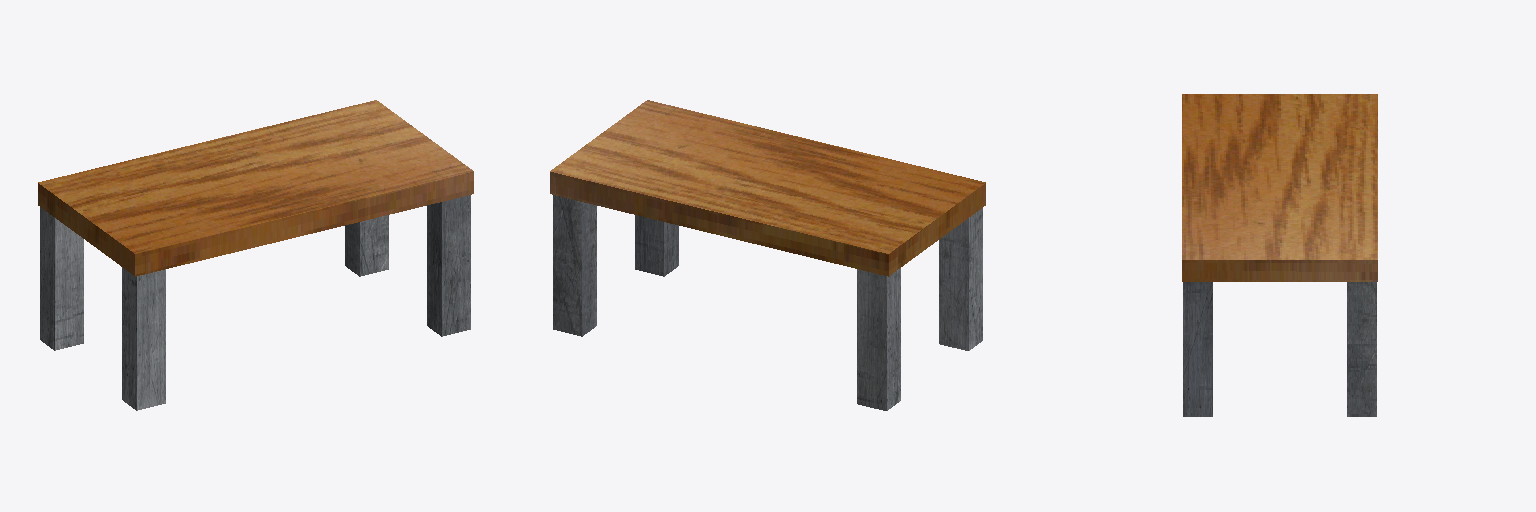
The picture shows the model from 3 angles: view 1: azimuth 30°, elevation 25°; view 2: azimuth 150°, elevation 25°; view 3: azimuth 270°, elevation 25°; orthographic projection.
Parts seen in each view (by area): view 1: Cube.003; view 2: Cube.003; view 3: Cube.003.
Part boxes in pixels (bbox=[...]): Cube.003: bbox=[38, 100, 473, 410]; Cube.003: bbox=[550, 100, 985, 410]; Cube.003: bbox=[1182, 94, 1377, 416].
Bounding box in the file's own units: 2.4 × 1.07 × 1.2.
1 materials, 1 textured.